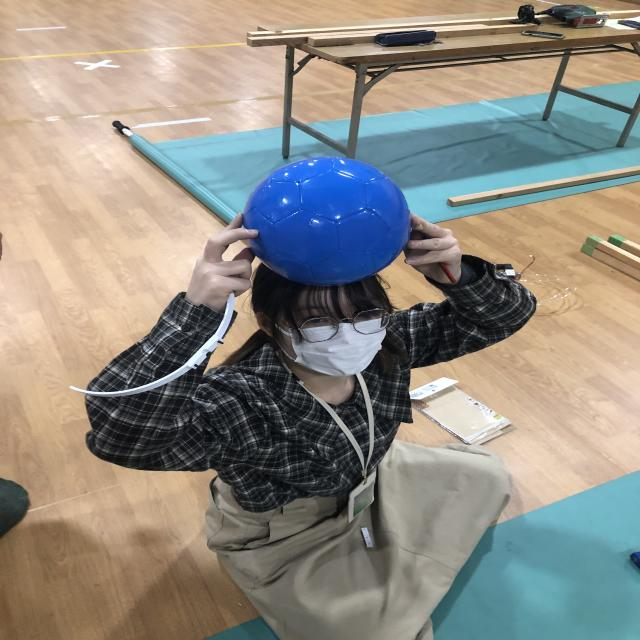blue_ball: (242, 156, 414, 282)
